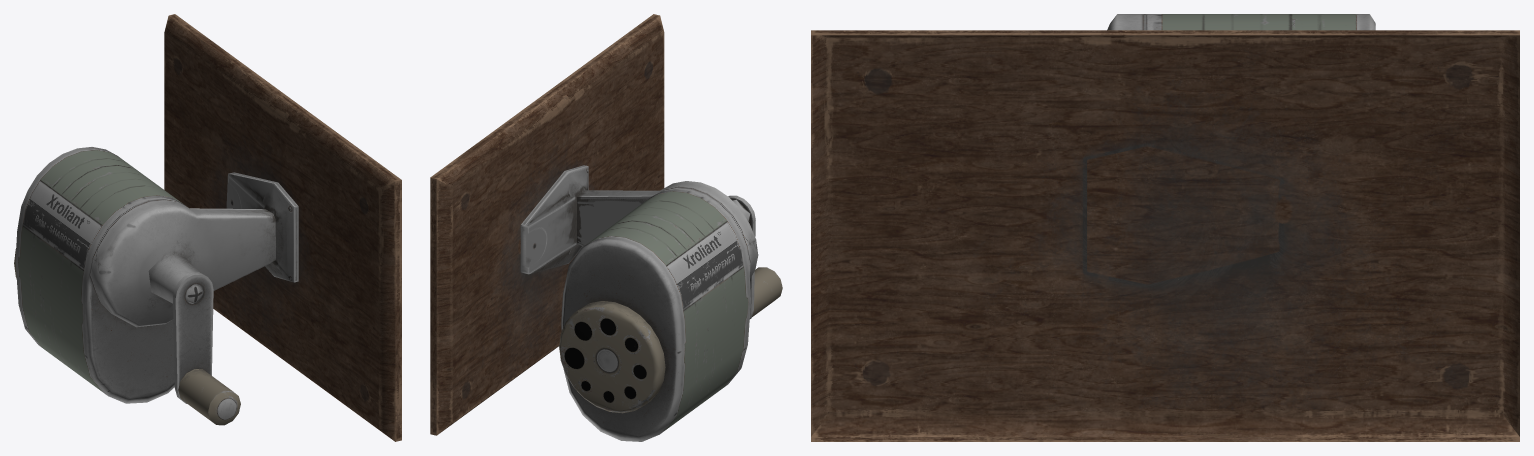
Rendered from SM_Pencil_Sharpener_02a.fbx.
3 views of the same model, side by side, from view 1: azimuth 30°, elevation 25°; view 2: azimuth 150°, elevation 25°; view 3: azimuth 270°, elevation 25° (orthographic). The views are drawn at different scales.
Visible parts, largest first — view 1: SM_Pencil_Sharpener_02a_LOD0; view 2: SM_Pencil_Sharpener_02a_LOD0; view 3: SM_Pencil_Sharpener_02a_LOD0.
Part boxes in pixels (x1,y1,x2,y2): SM_Pencil_Sharpener_02a_LOD0: [14, 14, 401, 441]; SM_Pencil_Sharpener_02a_LOD0: [430, 14, 782, 441]; SM_Pencil_Sharpener_02a_LOD0: [811, 14, 1519, 441].
Bounding box in the file's own units: 11.78 × 22.28 × 14.46.
